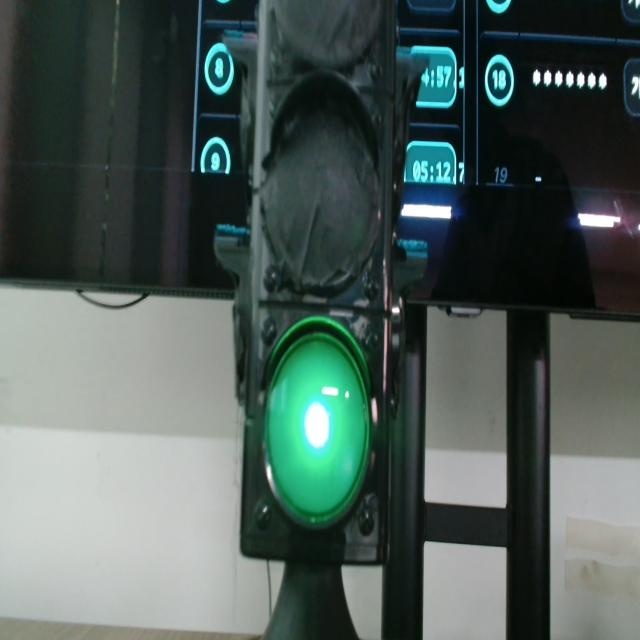green_light: (265, 331, 369, 525)
